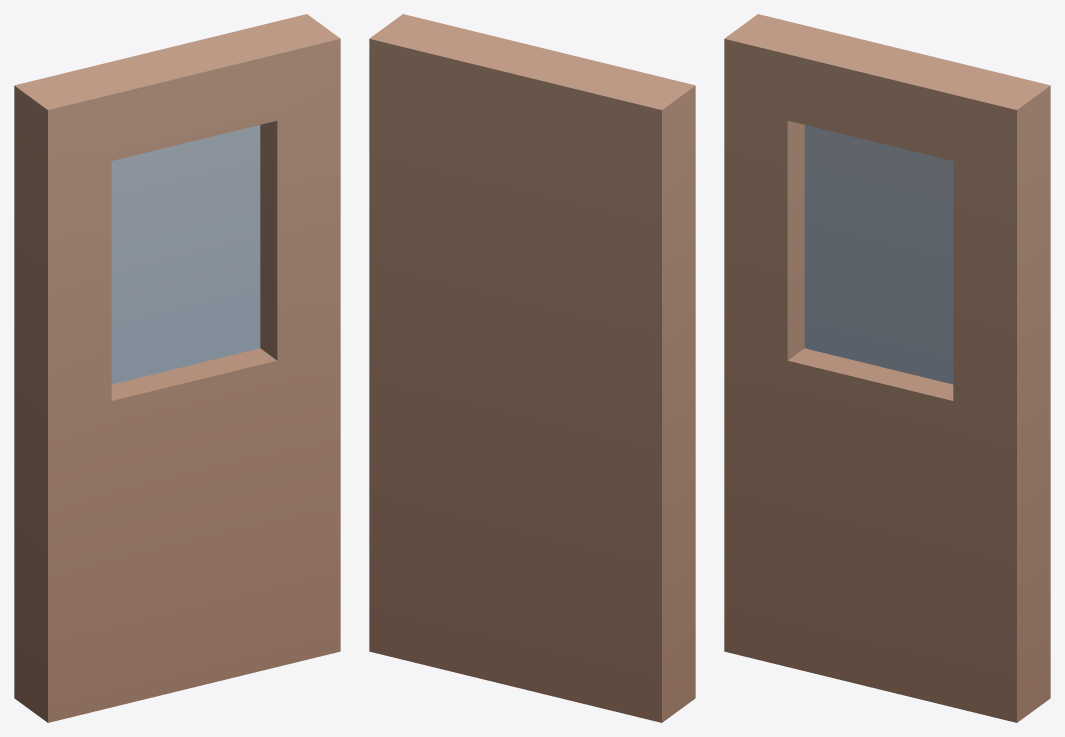
The model's file is door-brown-window.glb.
The picture shows the model from 3 angles, left to right: view 1: azimuth 30°, elevation 25°; view 2: azimuth 150°, elevation 25°; view 3: azimuth 330°, elevation 25°; orthographic projection.
Parts seen in each view (by area): view 1: door-brown-window; view 2: door-brown-window; view 3: door-brown-window.
Part boxes in pixels (x1,y1,x2,y2): door-brown-window: (14,14,340,722); door-brown-window: (369,14,695,722); door-brown-window: (724,14,1050,722).
Bounding box in the file's own units: 0.25 × 0.5 × 0.05.
